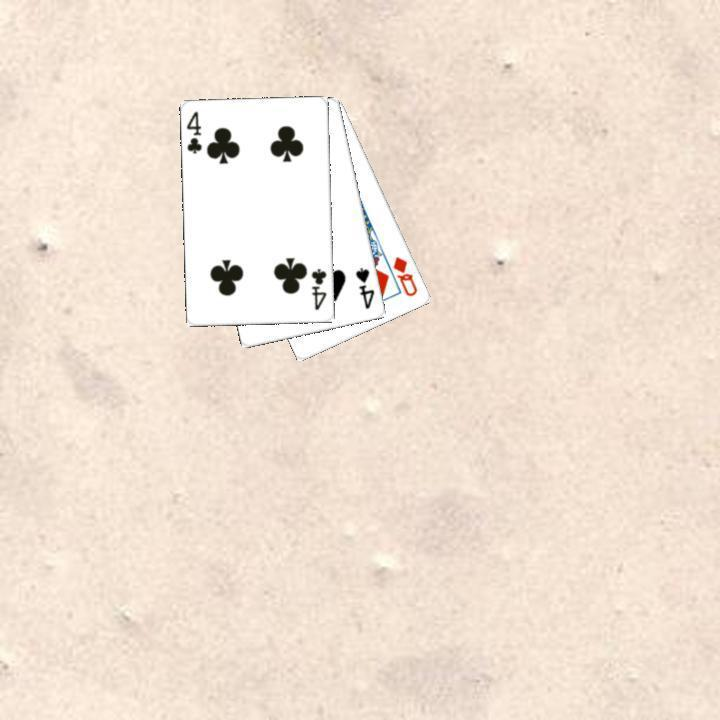4: (351, 264, 377, 311), (182, 107, 204, 156), (307, 265, 329, 312)
Q: (389, 252, 420, 299)
